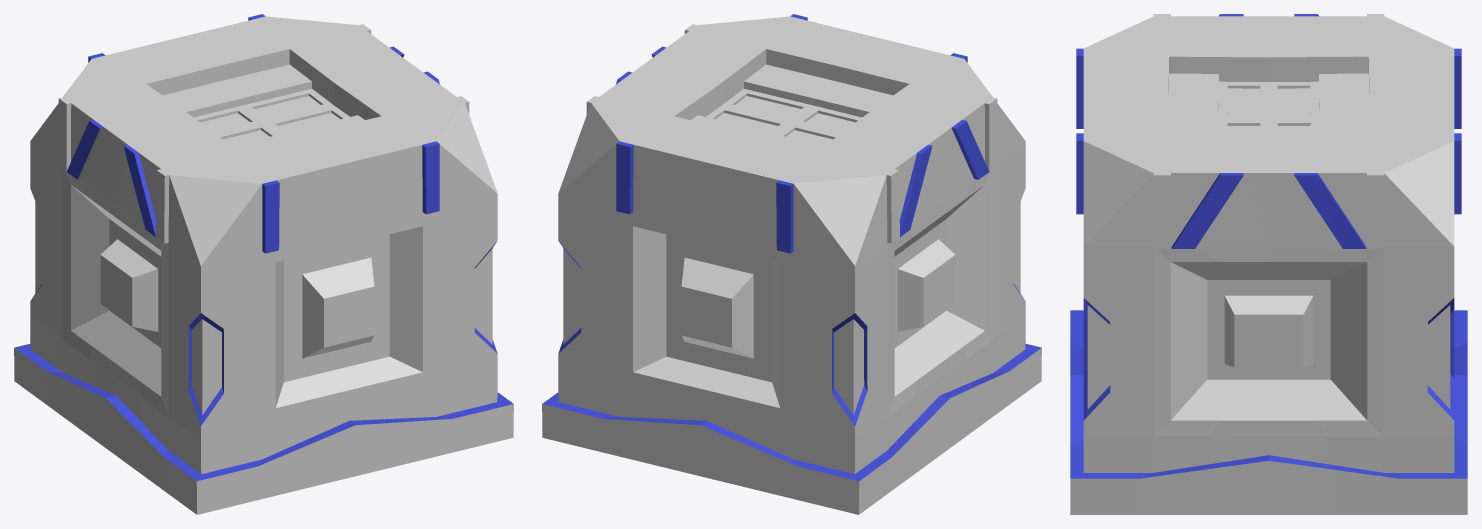
File: crate_low.fbx
3 views of the same model, side by side, from view 1: azimuth 30°, elevation 25°; view 2: azimuth 150°, elevation 25°; view 3: azimuth 270°, elevation 25° (orthographic). The views are drawn at different scales.
Visible parts, largest first — view 1: crate_low; view 2: crate_low; view 3: crate_low.
Part boxes in pixels (left/top/right/bottom): crate_low: left=14, top=14, right=513, bottom=514; crate_low: left=542, top=14, right=1041, bottom=514; crate_low: left=1070, top=14, right=1467, bottom=514.
Size of the model in its own units: 215 by 200 by 214.
